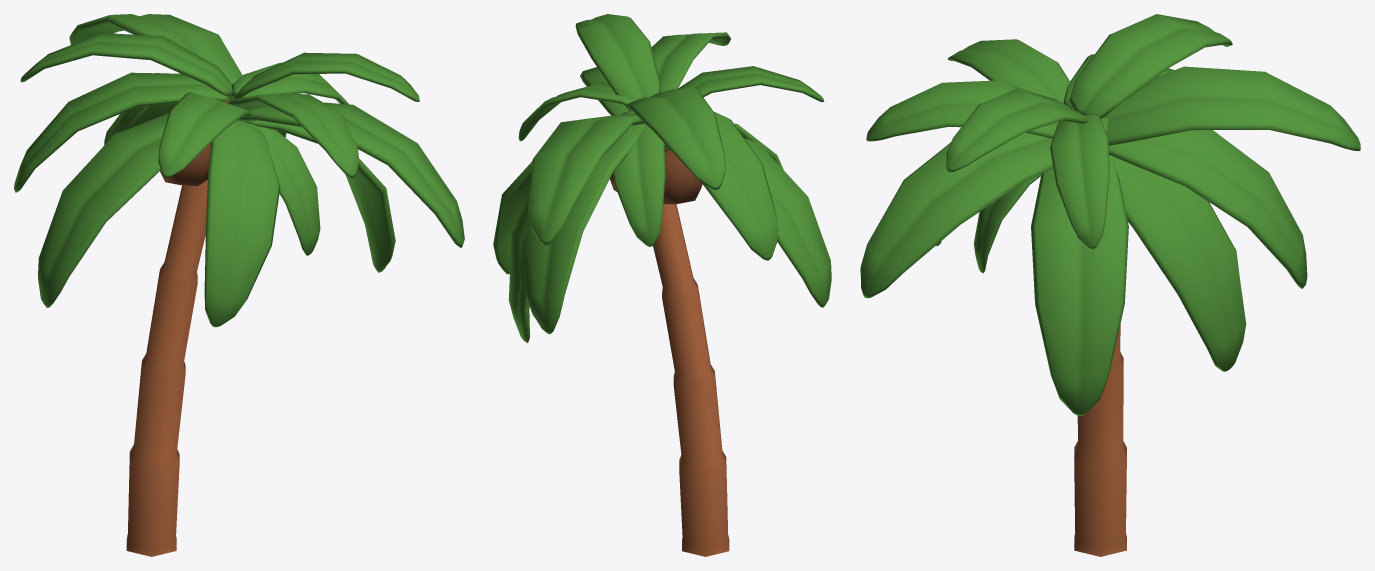
The model's file is Palm_Tree_02.fbx.
3 renders of one model, left to right at view 1: azimuth 30°, elevation 25°; view 2: azimuth 150°, elevation 25°; view 3: azimuth 270°, elevation 25°, orthographic. The views are drawn at different scales.
Visible parts, largest first — view 1: Palm_Tree_02; view 2: Palm_Tree_02; view 3: Palm_Tree_02.
Boxes of the visible parts, <box> form: Palm_Tree_02: <box>14,14,464,556</box>; Palm_Tree_02: <box>493,14,831,556</box>; Palm_Tree_02: <box>860,14,1360,556</box>.
Bounding box in the file's own units: 1627 × 2224 × 1963.
